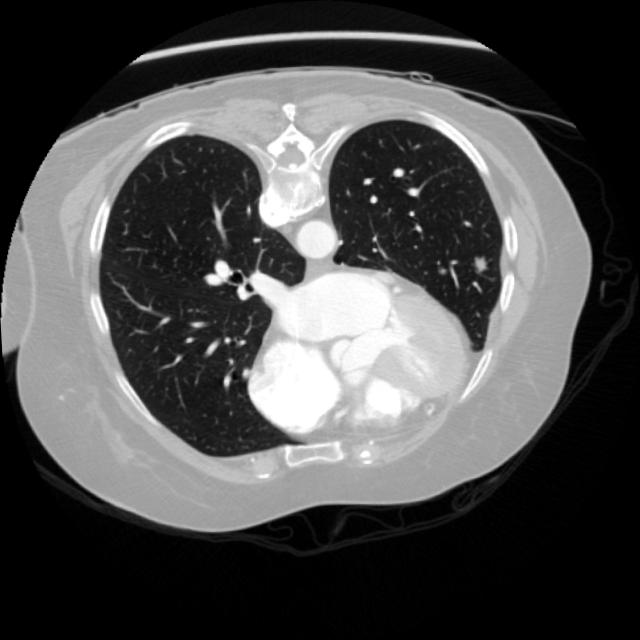nodule: (460, 247, 497, 284)
